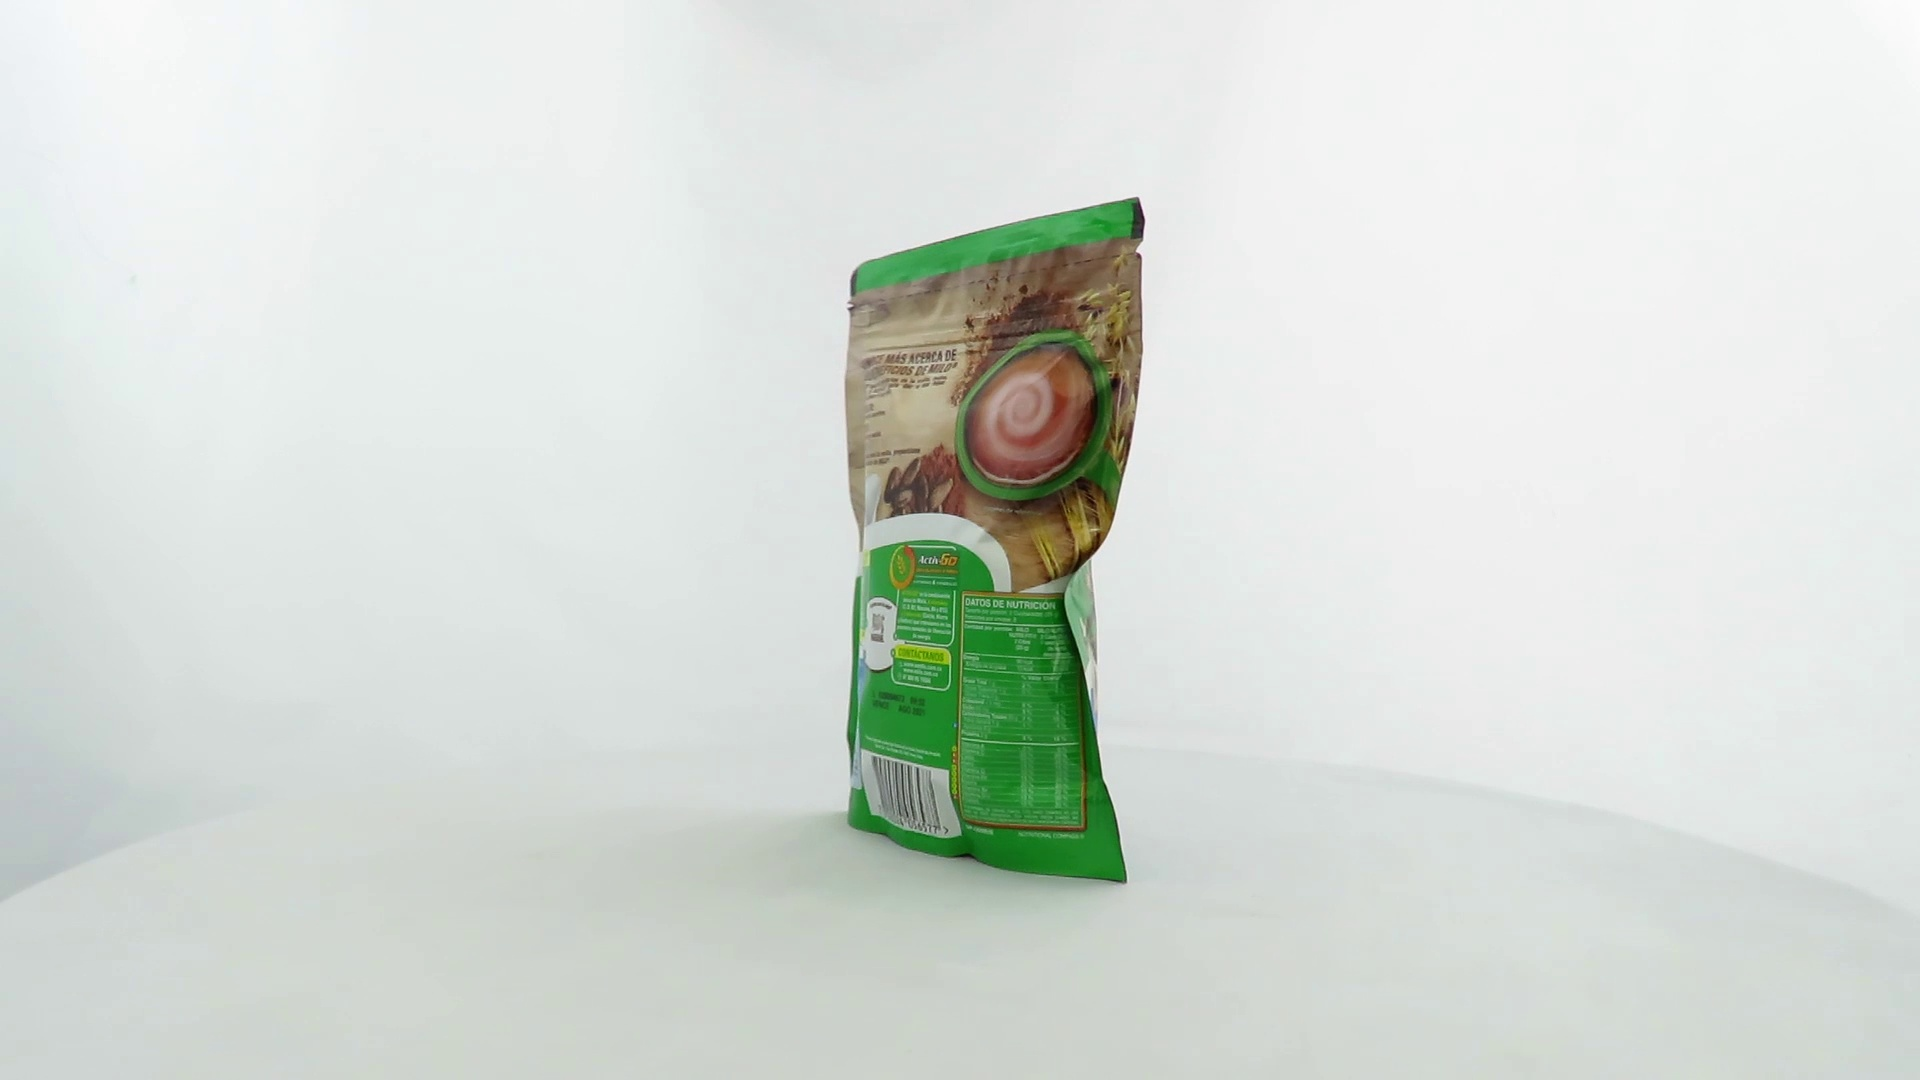COL0170205DYP20000: (839, 193, 1151, 890)
